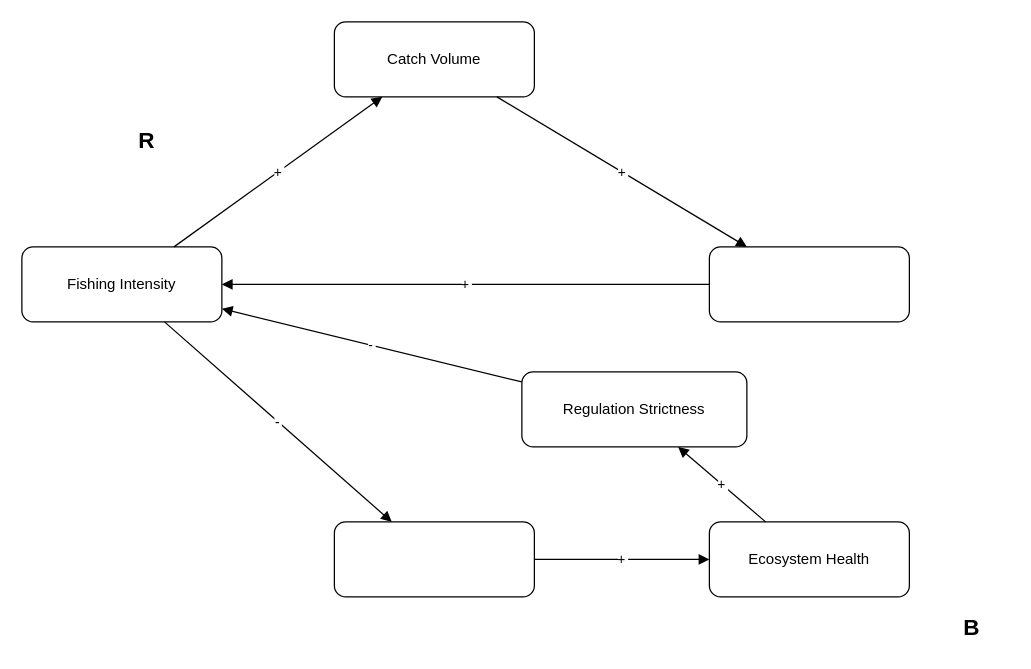
The diagram is 1031 pixels wide and 669 high, and some of its shapes have lost their labels. The box of each missing label's shape, as (x1, y1, x2, y2) in pixels:
Fish Population: (333, 521, 534, 597)
Fisher Income: (708, 246, 909, 322)
